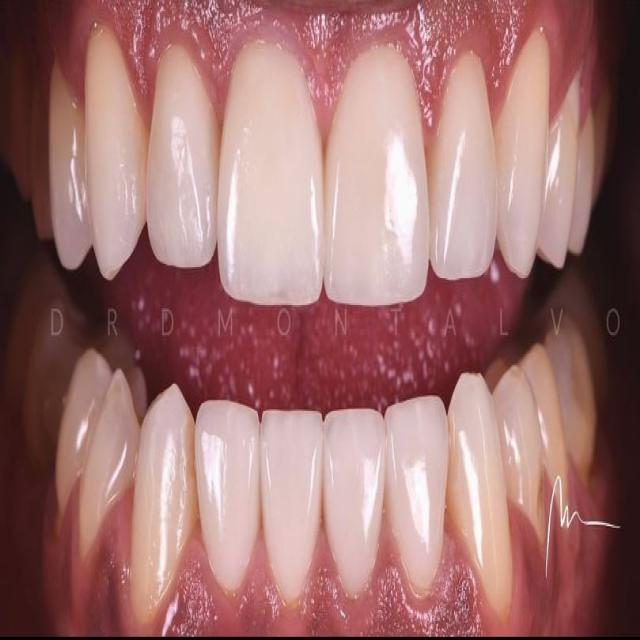1st Molar: (24, 313, 85, 471), (549, 316, 597, 476), (0, 63, 32, 190), (595, 103, 613, 207)
1st Premolar: (79, 375, 139, 548), (493, 368, 547, 553), (48, 62, 92, 270), (539, 73, 581, 269)
2nd Molar: (560, 281, 611, 409)
2nd Premolar: (55, 349, 116, 509), (522, 346, 570, 510), (572, 115, 596, 251), (31, 85, 52, 240)
Canine: (448, 371, 514, 623), (129, 386, 195, 634), (85, 22, 148, 281), (496, 30, 551, 278)
Central Incisor: (218, 36, 324, 307), (324, 43, 431, 308), (260, 411, 324, 600), (323, 411, 384, 599)
Lateral Incisor: (147, 44, 220, 267), (430, 52, 498, 281), (384, 395, 449, 599), (195, 397, 261, 593)
